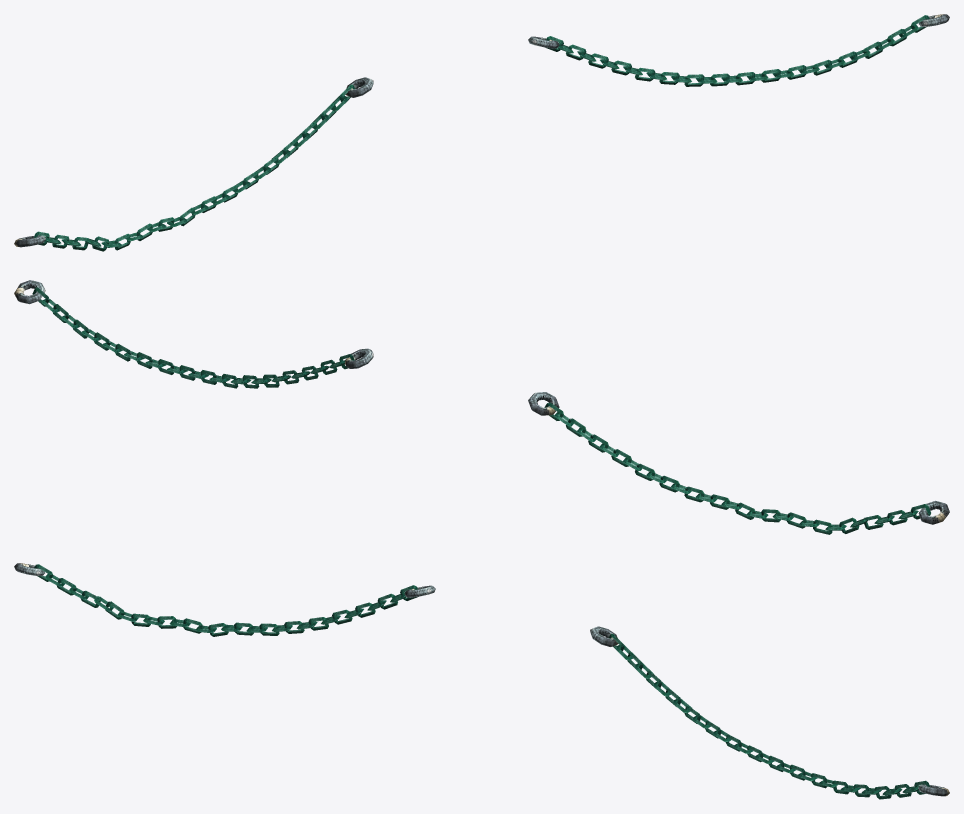
The model's file is 5st_chain_005.fbx.
3 renders of one model, top to bottom at view 1: azimuth 30°, elevation 25°; view 2: azimuth 150°, elevation 25°; view 3: azimuth 330°, elevation 25°, orthographic.
Parts seen in each view (by area): view 1: 5st_chain_05; view 2: 5st_chain_05; view 3: 5st_chain_05.
Boxes of the visible parts, <box> form: 5st_chain_05: <box>14,14,949,251</box>; 5st_chain_05: <box>14,280,949,534</box>; 5st_chain_05: <box>14,563,949,799</box>.
Size of the model in its own units: 58.88 by 5.46 by 4.96.
